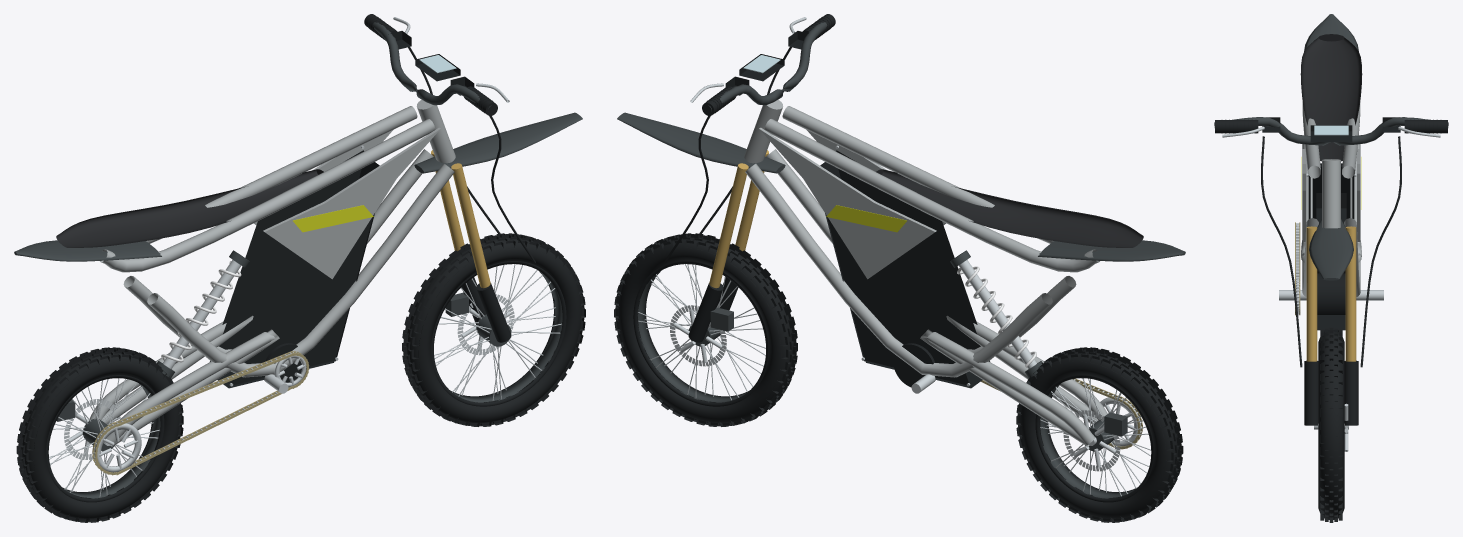
Rendered from arctic-leopard-e-zpro.glb.
The picture shows the model from 3 angles, left to right: view 1: azimuth 30°, elevation 25°; view 2: azimuth 150°, elevation 25°; view 3: azimuth 270°, elevation 25°; orthographic projection. The views are drawn at different scales.
Parts seen in each view (by area): view 1: Chassis | silvergrey, BatteryMount | black, FrontWheel | rubber, RearWheel | rubber, Bodywork | silvergrey, Bodywork | seat, RearSuspension | silvergrey, Bodywork | graphite, FrontWheel | steel, Drive | chain, Drive | steel, RearWheel | steel (+12 smaller); view 2: Chassis | silvergrey, BatteryMount | black, FrontWheel | rubber, RearWheel | rubber, Bodywork | silvergrey, Bodywork | seat, RearSuspension | silvergrey, Bodywork | graphite, FrontWheel | steel, RearWheel | steel, Fork | gold, FrontWheel | black (+12 smaller); view 3: Bodywork | seat, FrontWheel | rubber, Chassis | silvergrey, Fork | gold, Bodywork | graphite, Cockpit | rubber, Fork | black, BatteryMount | black, Cockpit | graphite, Cockpit | black, MotorMount | black, Drive | steel (+4 smaller).
Boxes of the visible parts, bbox=[...] form: Chassis | silvergrey: bbox=[100, 99, 455, 377]; BatteryMount | black: bbox=[210, 150, 379, 388]; FrontWheel | rubber: bbox=[402, 233, 585, 426]; RearWheel | rubber: bbox=[16, 347, 183, 522]; Bodywork | silvergrey: bbox=[254, 127, 440, 279]; Bodywork | seat: bbox=[56, 169, 323, 247]; RearSuspension | silvergrey: bbox=[89, 315, 279, 446]; Bodywork | graphite: bbox=[14, 112, 582, 261]; FrontWheel | steel: bbox=[434, 264, 561, 401]; Drive | chain: bbox=[92, 351, 309, 475]; Drive | steel: bbox=[93, 352, 306, 472]; RearWheel | steel: bbox=[49, 378, 159, 497]; Chassis | silvergrey: bbox=[744, 99, 1099, 377]; BatteryMount | black: bbox=[820, 150, 989, 388]; FrontWheel | rubber: bbox=[614, 233, 797, 426]; RearWheel | rubber: bbox=[1016, 347, 1183, 522]; Bodywork | silvergrey: bbox=[759, 127, 945, 279]; Bodywork | seat: bbox=[876, 169, 1143, 247]; RearSuspension | silvergrey: bbox=[920, 315, 1107, 446]; Bodywork | graphite: bbox=[617, 112, 1185, 261]; FrontWheel | steel: bbox=[638, 264, 765, 400]; RearWheel | steel: bbox=[1040, 378, 1150, 496]; Fork | gold: bbox=[709, 150, 768, 288]; FrontWheel | black: bbox=[633, 261, 768, 406]; Bodywork | seat: bbox=[1300, 34, 1362, 161]; FrontWheel | rubber: bbox=[1318, 327, 1344, 522]; Chassis | silvergrey: bbox=[1302, 103, 1360, 297]; Fork | gold: bbox=[1306, 226, 1356, 361]; Bodywork | graphite: bbox=[1304, 14, 1358, 280]; Cockpit | rubber: bbox=[1215, 120, 1447, 367]; Fork | black: bbox=[1304, 360, 1358, 425]; BatteryMount | black: bbox=[1308, 167, 1354, 330]; Cockpit | graphite: bbox=[1214, 117, 1448, 145]; Cockpit | black: bbox=[1221, 117, 1441, 142]; MotorMount | black: bbox=[1317, 273, 1345, 314]; Drive | steel: bbox=[1279, 223, 1383, 314].
Bounding box in the file's own units: 1.67 × 1.07 × 0.6236.
